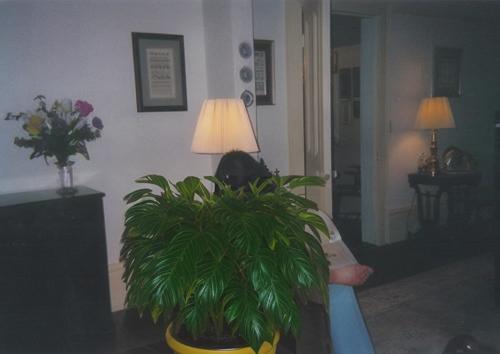person: (186, 151, 377, 354)
person/foot: (318, 263, 373, 285)
person/hand: (276, 209, 302, 225), (234, 203, 252, 222)
person/head: (213, 149, 261, 206)
pottedplant: (126, 175, 329, 354)
